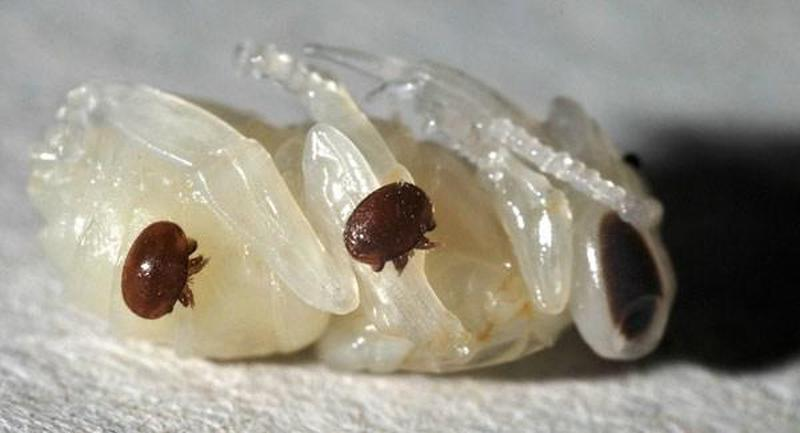Varrao: (343, 182, 438, 275), (120, 221, 207, 321)
